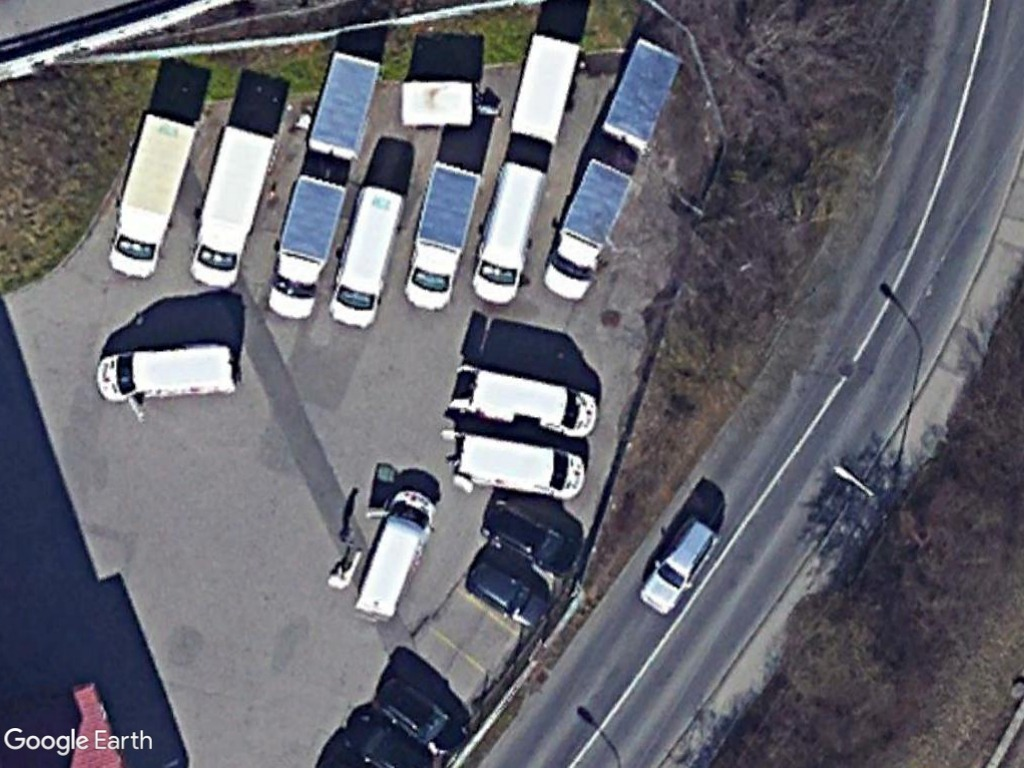car: (636, 515, 722, 617), (467, 560, 552, 630)
truck: (185, 118, 282, 291), (106, 110, 199, 282), (400, 157, 486, 319), (546, 155, 637, 301), (265, 171, 347, 324)
van: (327, 183, 408, 332), (473, 156, 550, 307), (351, 490, 438, 618), (456, 363, 598, 437), (94, 341, 241, 403), (456, 430, 587, 498)
